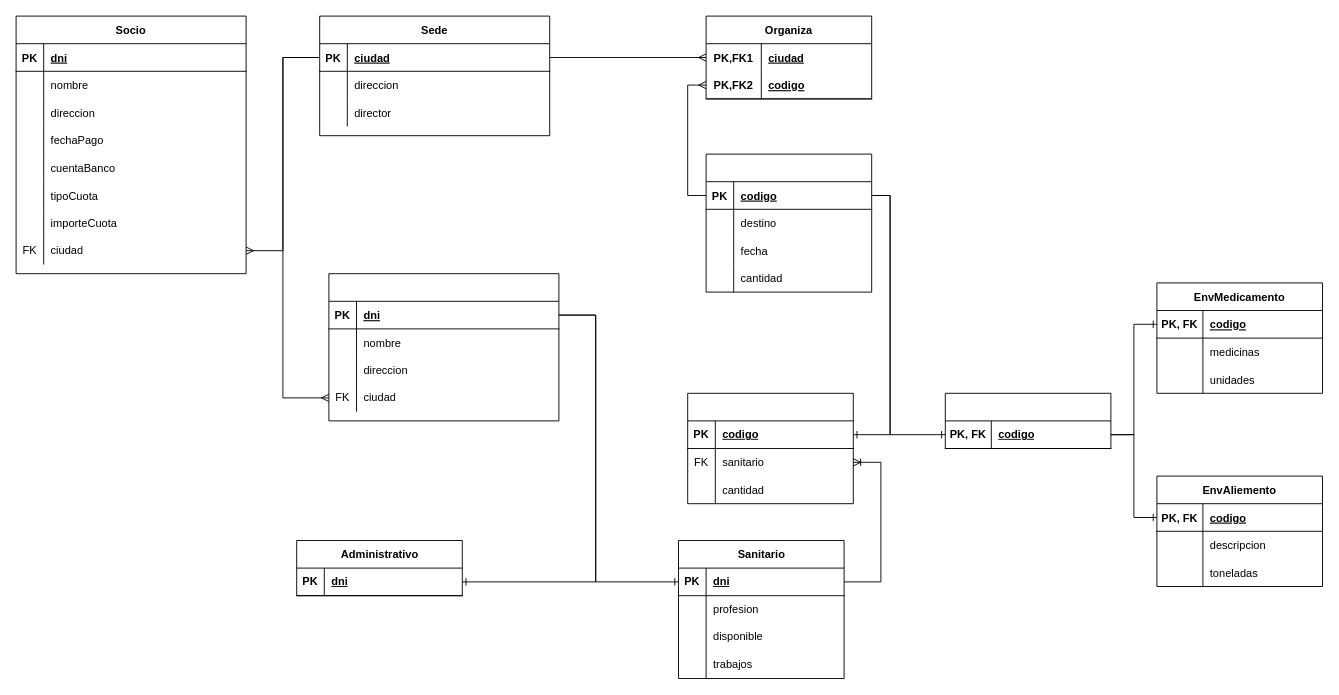
Image size: 1339x695. Some labels were removed from this diagram. The box of each missing label's shape, as (x1, y1, x2, y2) in pixels:
Envio: (705, 153, 872, 292)
EnvioHumanitario: (687, 392, 853, 504)
EnvioMaterial: (944, 392, 1111, 448)
Voluntario: (328, 273, 559, 421)
